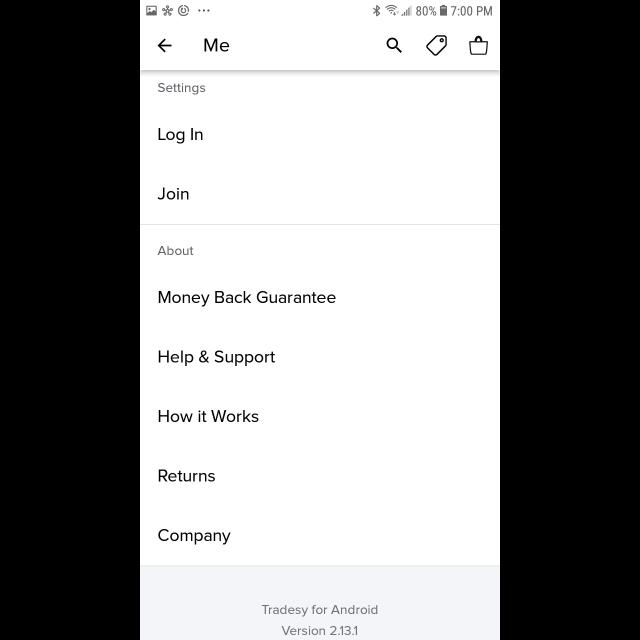icon: (426, 36, 446, 56), (469, 36, 488, 56), (386, 38, 402, 54), (158, 39, 172, 53)
text: (158, 291, 336, 307), (158, 350, 276, 366), (262, 605, 378, 617), (159, 410, 259, 422), (159, 529, 231, 545), (282, 626, 358, 636), (158, 128, 204, 144), (158, 470, 216, 482), (158, 84, 206, 96), (158, 188, 190, 200), (158, 247, 194, 256), (204, 40, 230, 52)
uppertaskbar: (140, 1, 500, 17)
